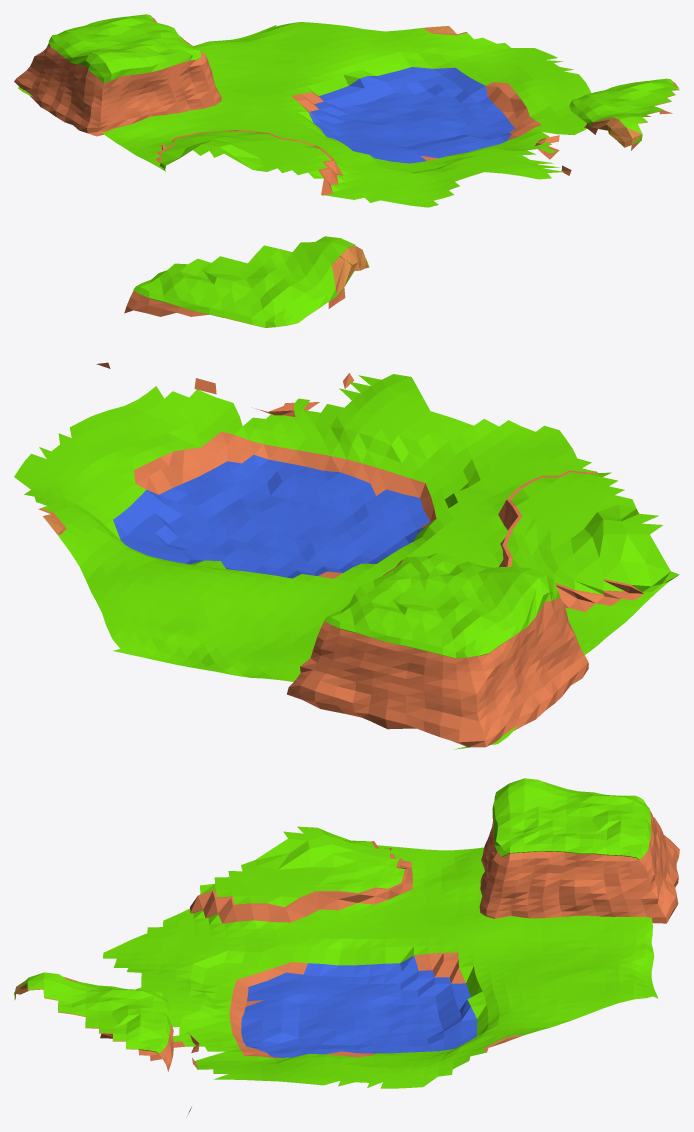
The model's file is Локация с озером.fbx.
3 views of the same model, one above another, from view 1: azimuth 30°, elevation 25°; view 2: azimuth 150°, elevation 25°; view 3: azimuth 270°, elevation 25° (orthographic). The views are drawn at different scales.
Visible parts, largest first — view 1: Cube.003; view 2: Cube.003; view 3: Cube.003.
Part boxes in pixels (bbox=[...]): Cube.003: bbox=[14, 14, 679, 207]; Cube.003: bbox=[14, 236, 679, 749]; Cube.003: bbox=[14, 778, 679, 1114].
Bounding box in the file's own units: 1422 × 232 × 1441.
